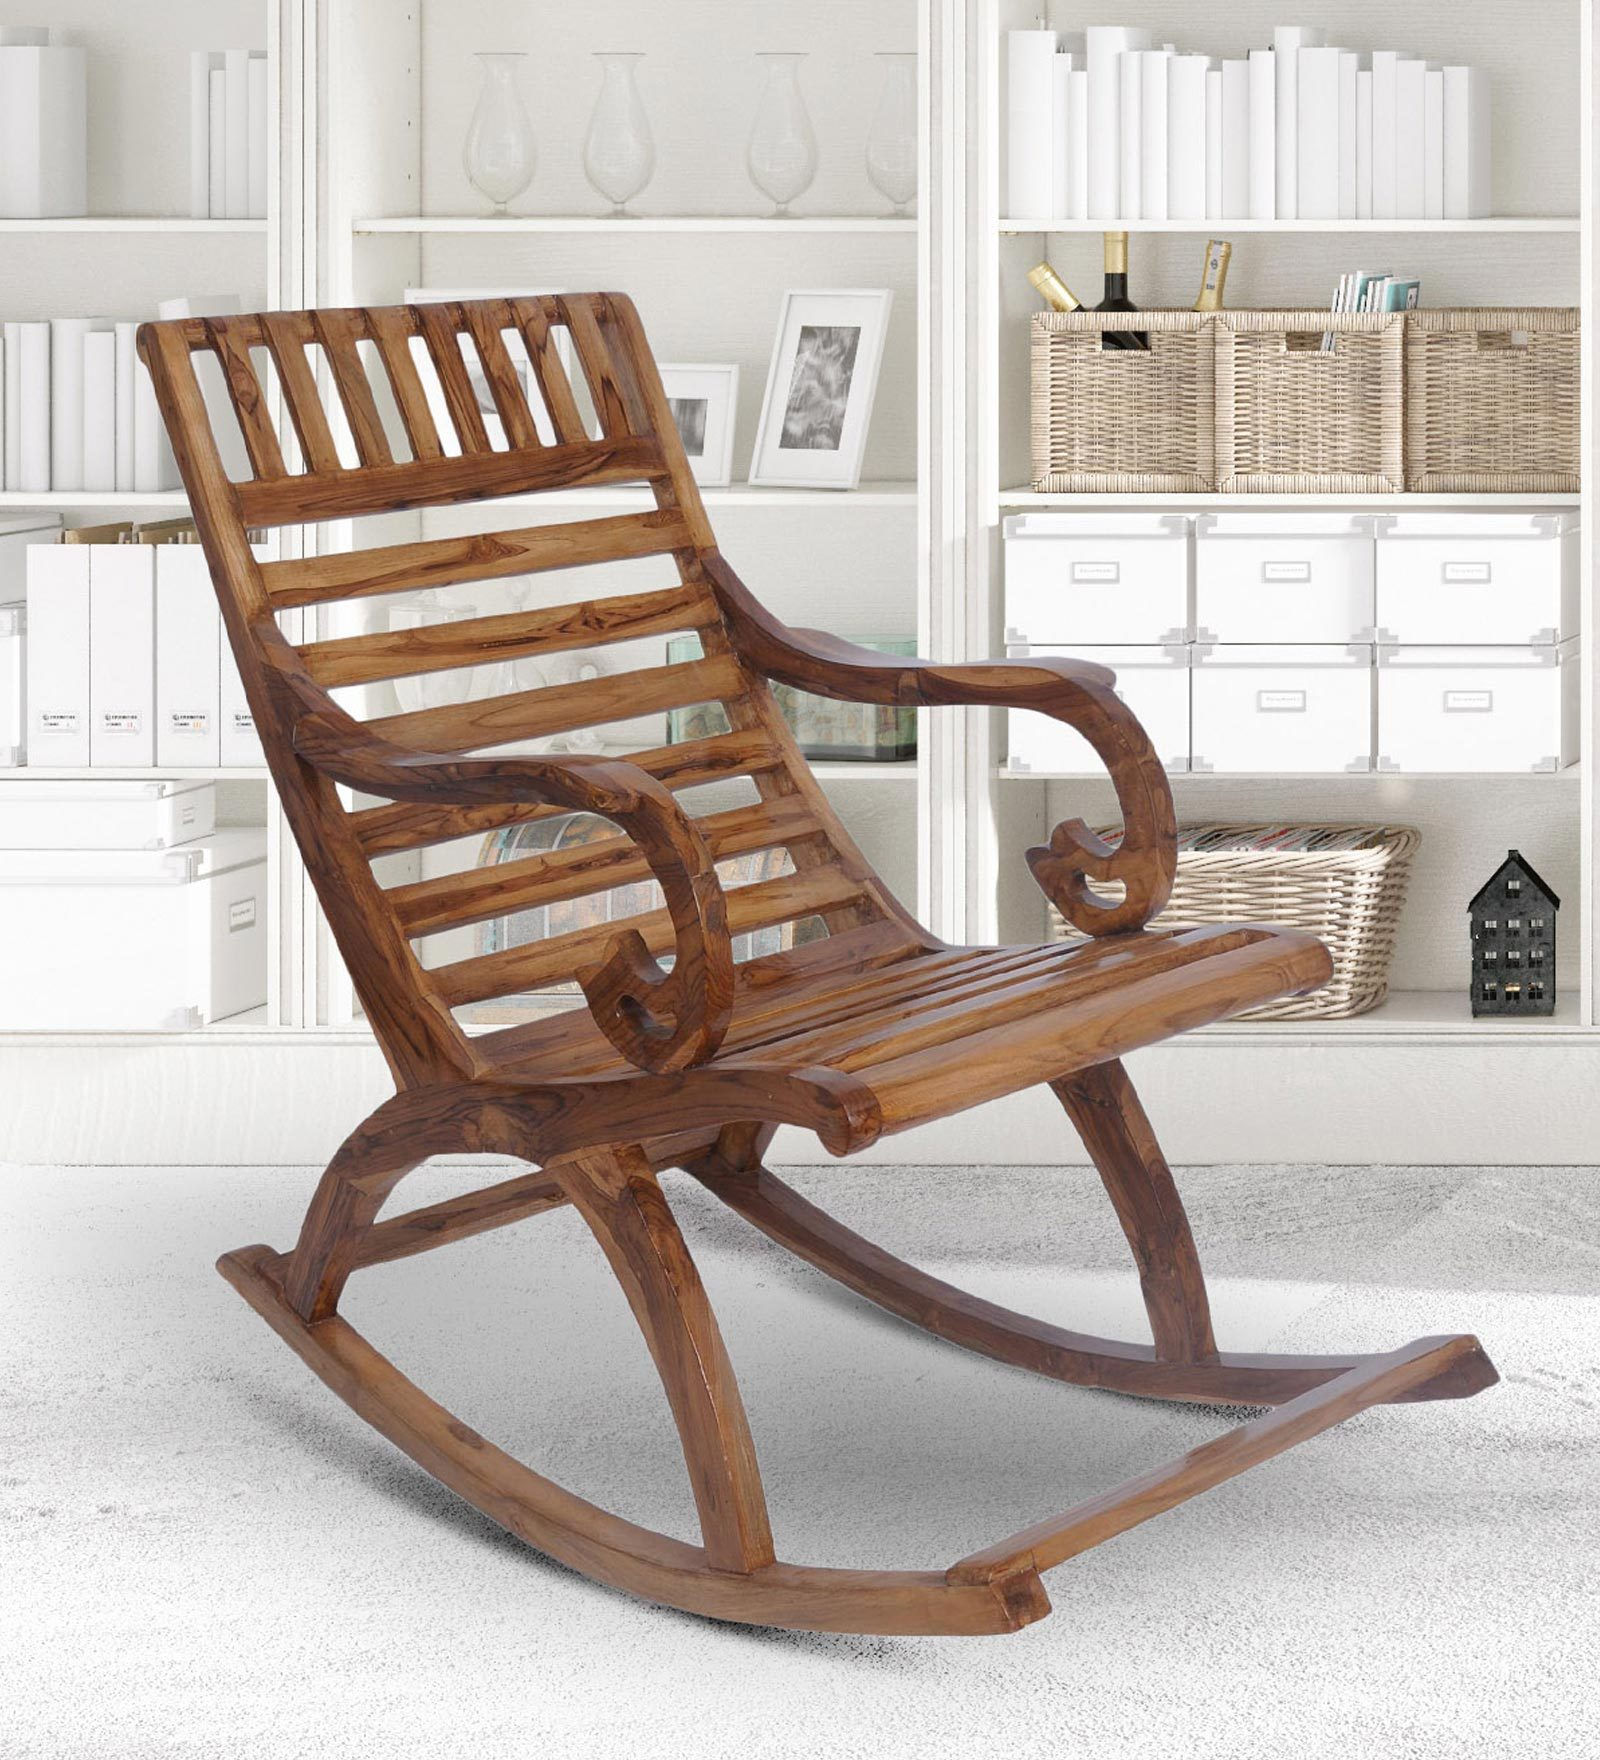Teak Wood Rocking Chair in Light Teak Finish by Karigar: (87, 159, 1520, 1689)
